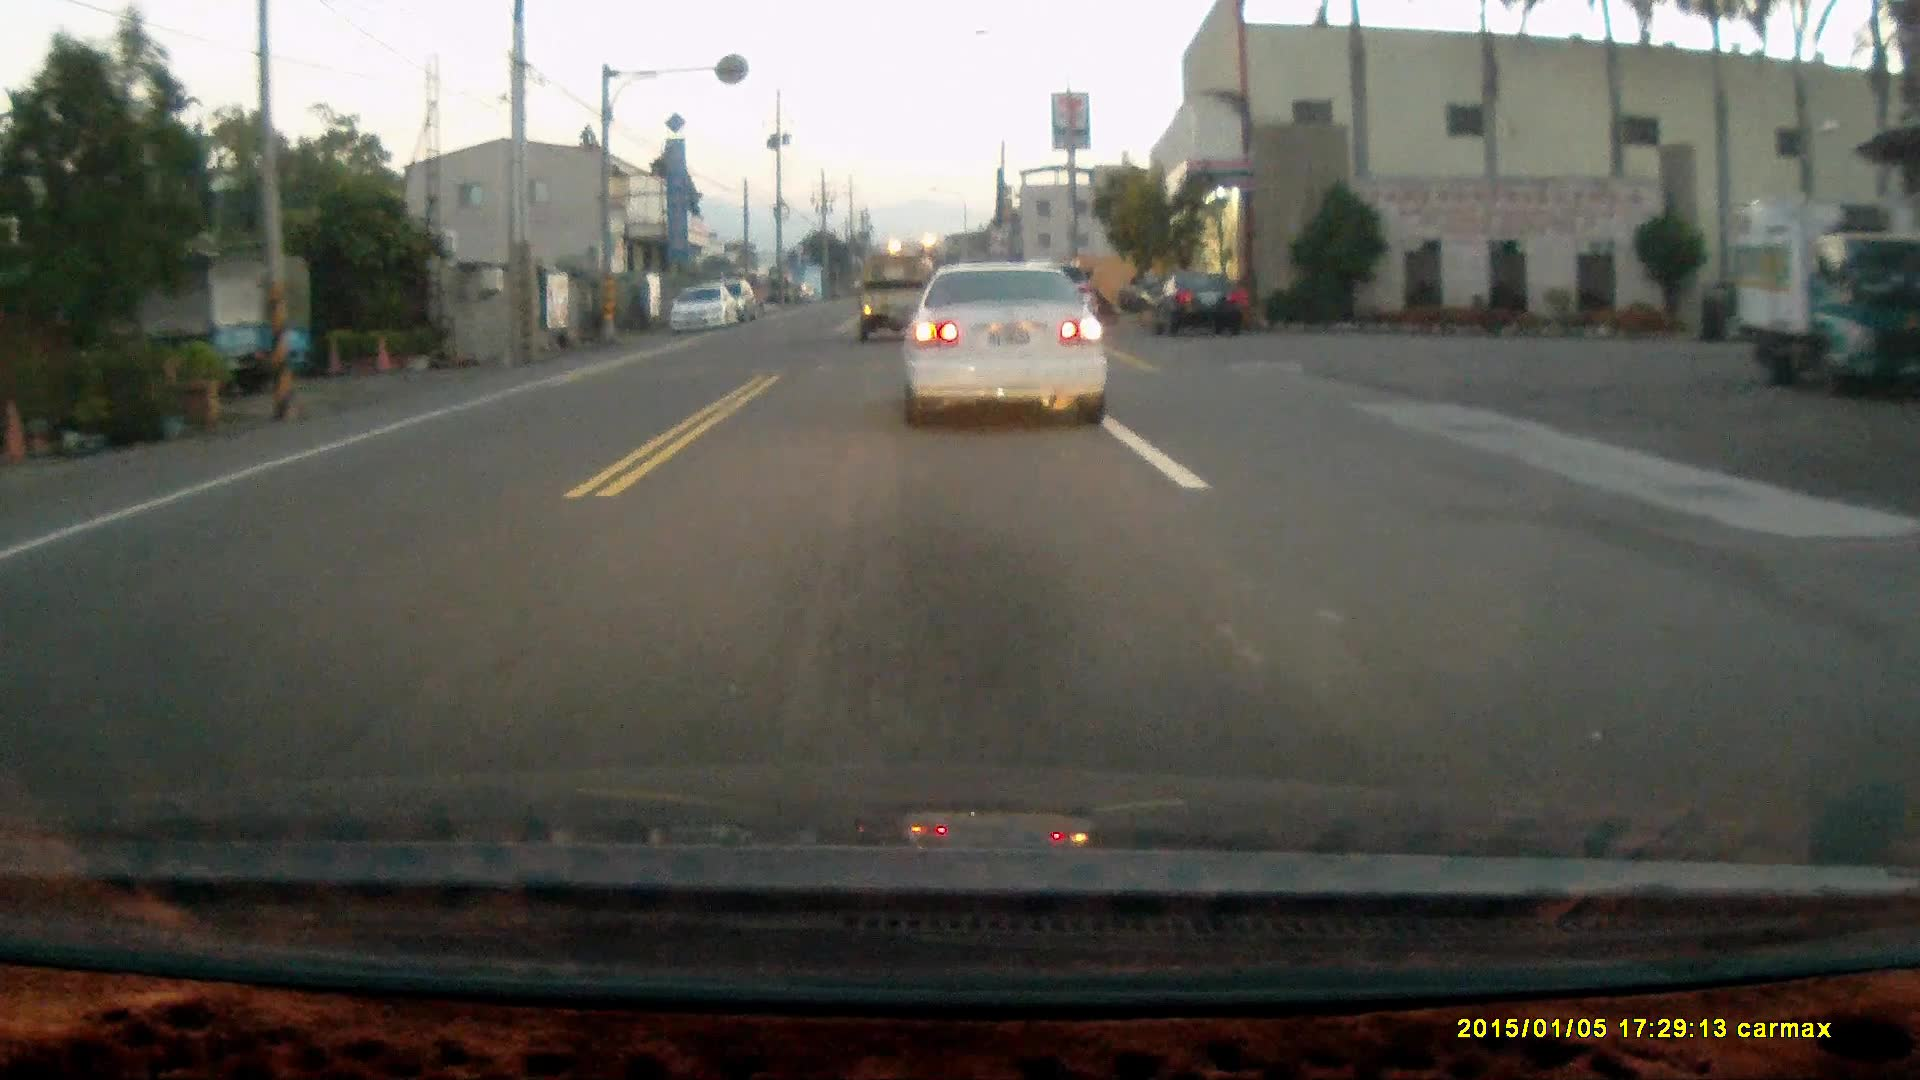vehicle: (1727, 196, 1903, 401), (905, 264, 1112, 433), (1142, 270, 1251, 336), (855, 258, 930, 345), (662, 280, 742, 338)
